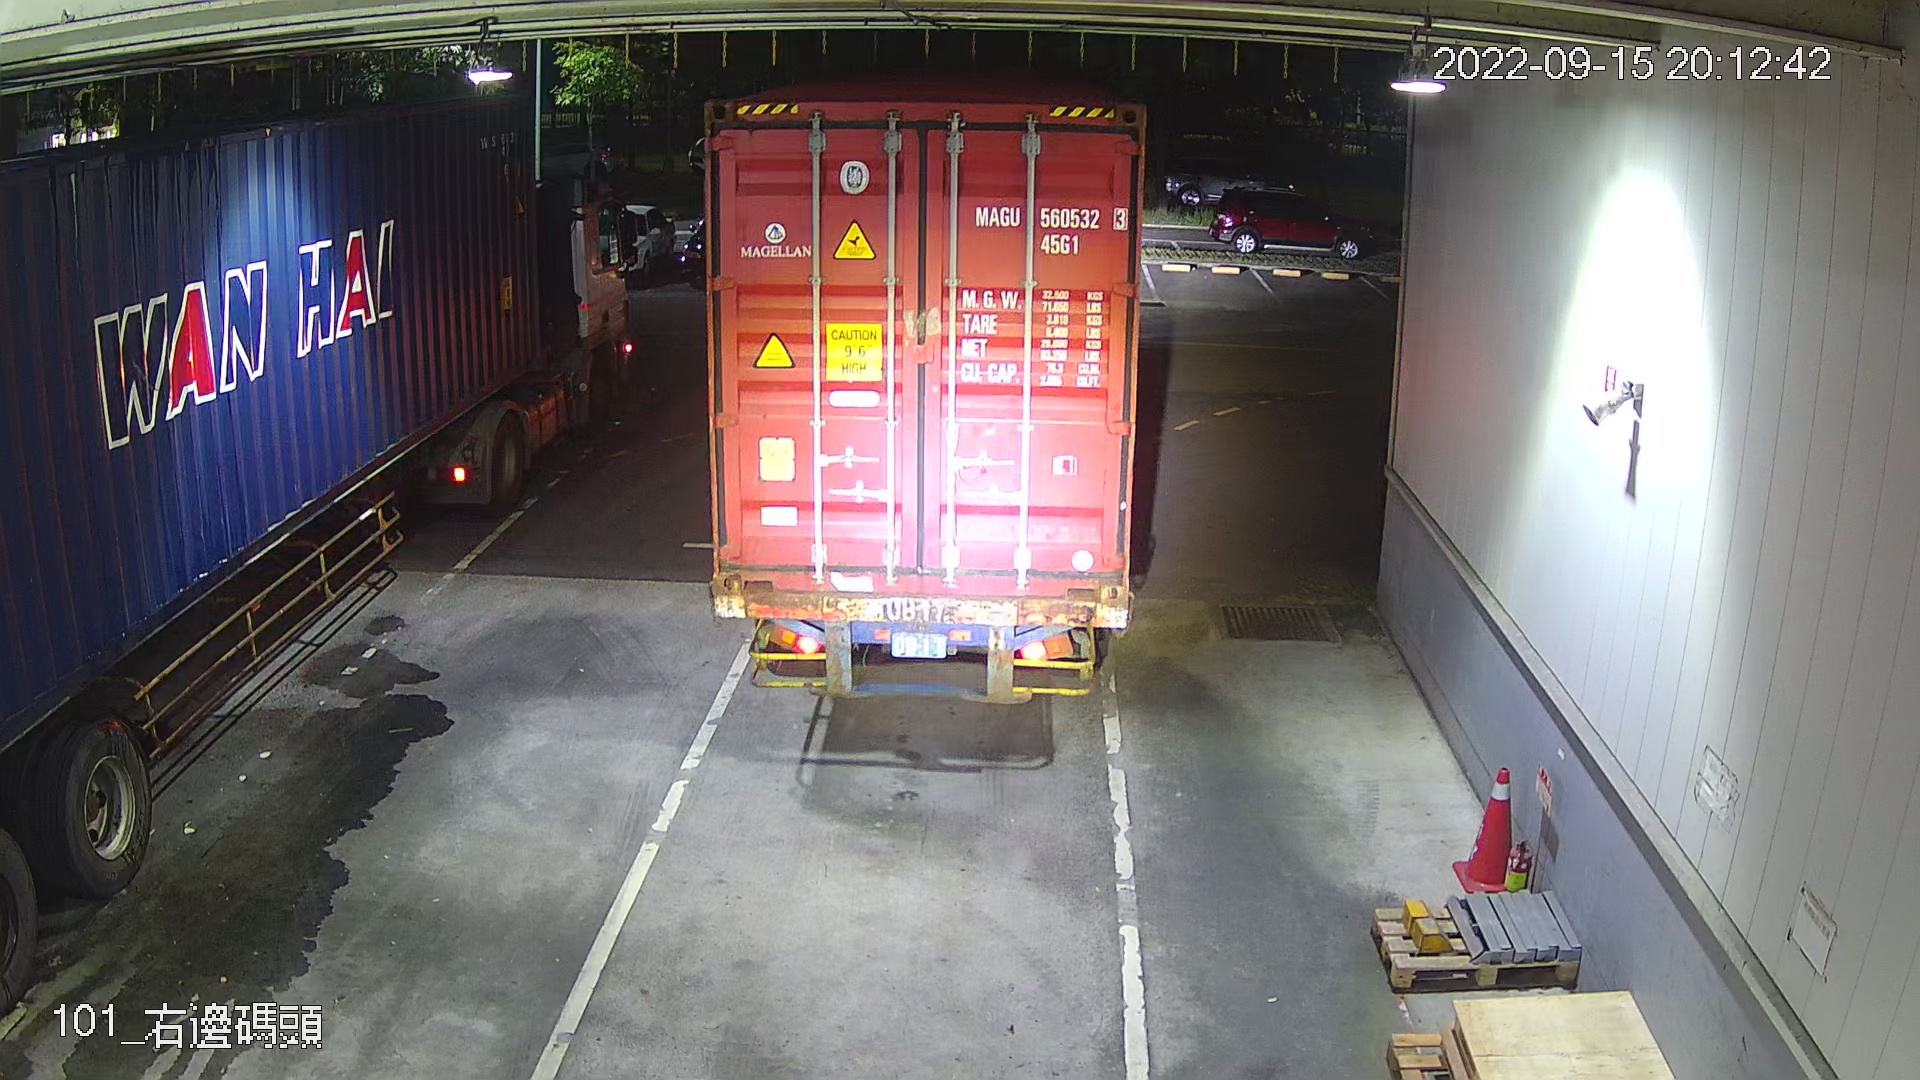container: (967, 194, 1134, 266)
